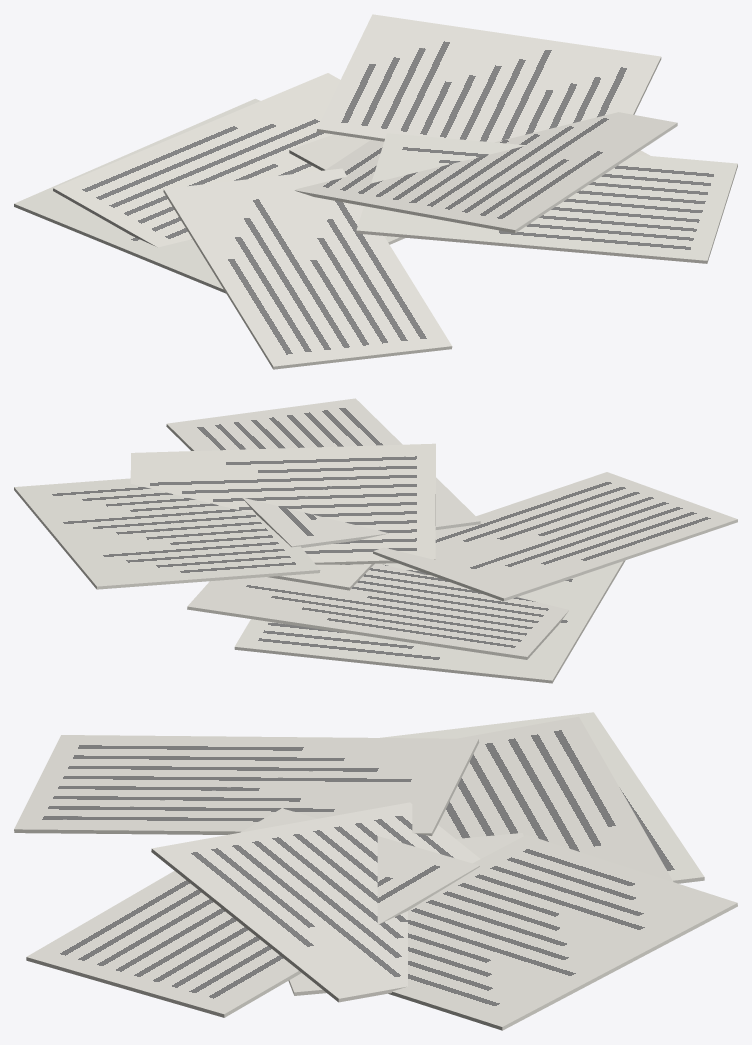
The model's file is book_pieces.glb.
3 views of the same model, one above another, from view 1: azimuth 30°, elevation 25°; view 2: azimuth 150°, elevation 25°; view 3: azimuth 270°, elevation 25° (orthographic). The views are drawn at different scales.
Visible parts, largest first — view 1: block_page2, block_page6, block_page4, block_page5, block_page1, block_page0, block_page3; view 2: block_page5, block_page2, block_page6, block_page1, block_page0, block_page4, block_page3; view 3: block_page2, block_page6, block_page5, block_page4, block_page1, block_page0, block_page3.
Part boxes in pixels (box(x1,y1,x2,y2)): block_page2: box(163, 168, 452, 369); block_page6: box(316, 14, 661, 142); block_page4: box(356, 133, 737, 263); block_page5: box(295, 112, 677, 233); block_page1: box(53, 73, 340, 247); block_page0: box(14, 98, 405, 293); block_page3: box(289, 134, 650, 170); block_page5: box(130, 443, 435, 564); block_page2: box(373, 472, 737, 601); block_page6: box(14, 478, 320, 589); block_page1: box(187, 563, 568, 659); block_page0: box(234, 560, 625, 683); block_page4: box(166, 398, 480, 547); block_page3: box(268, 564, 374, 590); block_page2: box(14, 735, 479, 835); block_page6: box(388, 835, 737, 1030); block_page5: box(151, 802, 480, 1002); block_page4: box(26, 808, 479, 1017); block_page1: box(438, 716, 673, 881); block_page0: box(380, 712, 704, 883); block_page3: box(288, 833, 523, 995).
Bounding box in the file's own units: 0.2033 × 0.0175 × 0.1793.
1 material, 1 textured.
